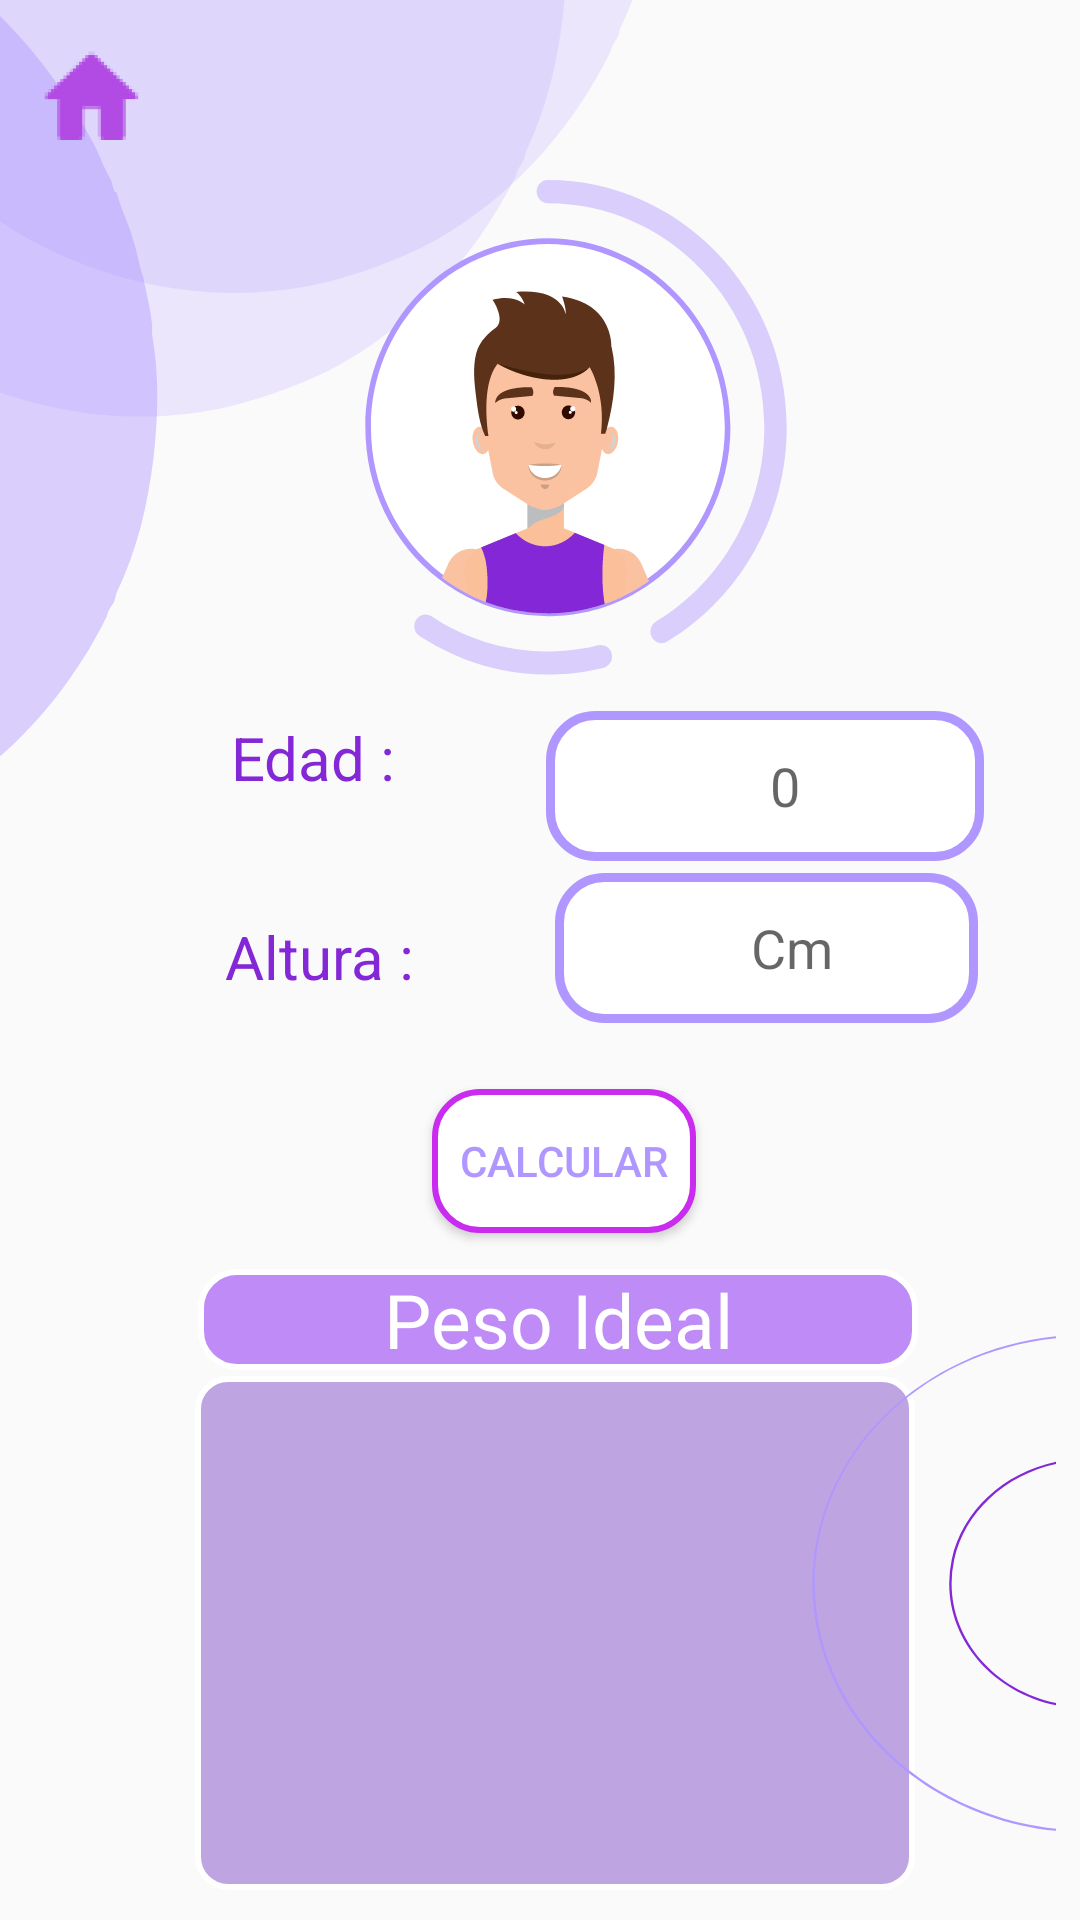

Icon click points for this 1080×1920 phone screenshot, format (x,y):
inicio oficial: (73,106)
